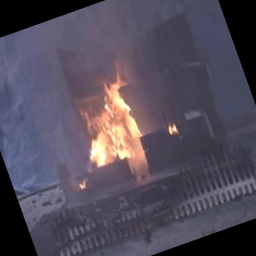fire: (63, 68, 162, 174)
